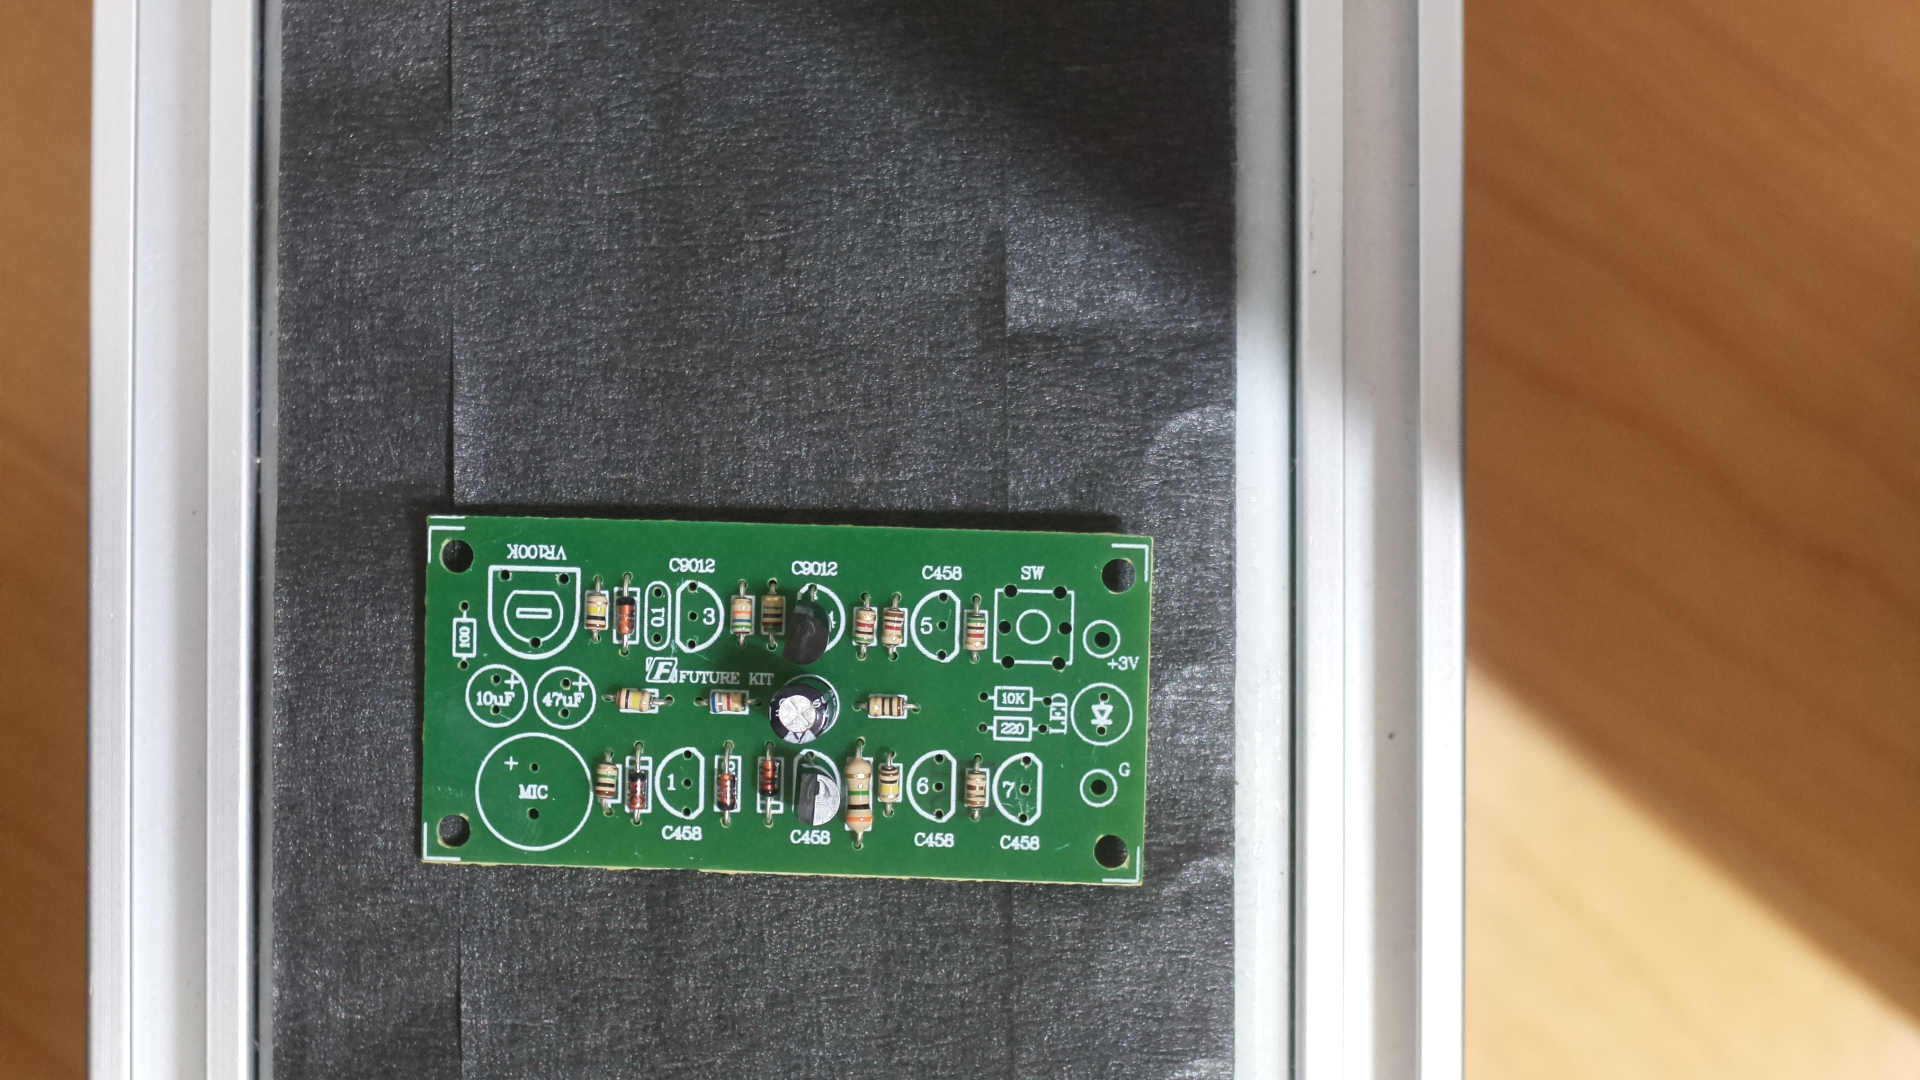A_Missing_part: (411, 502, 1164, 898)
